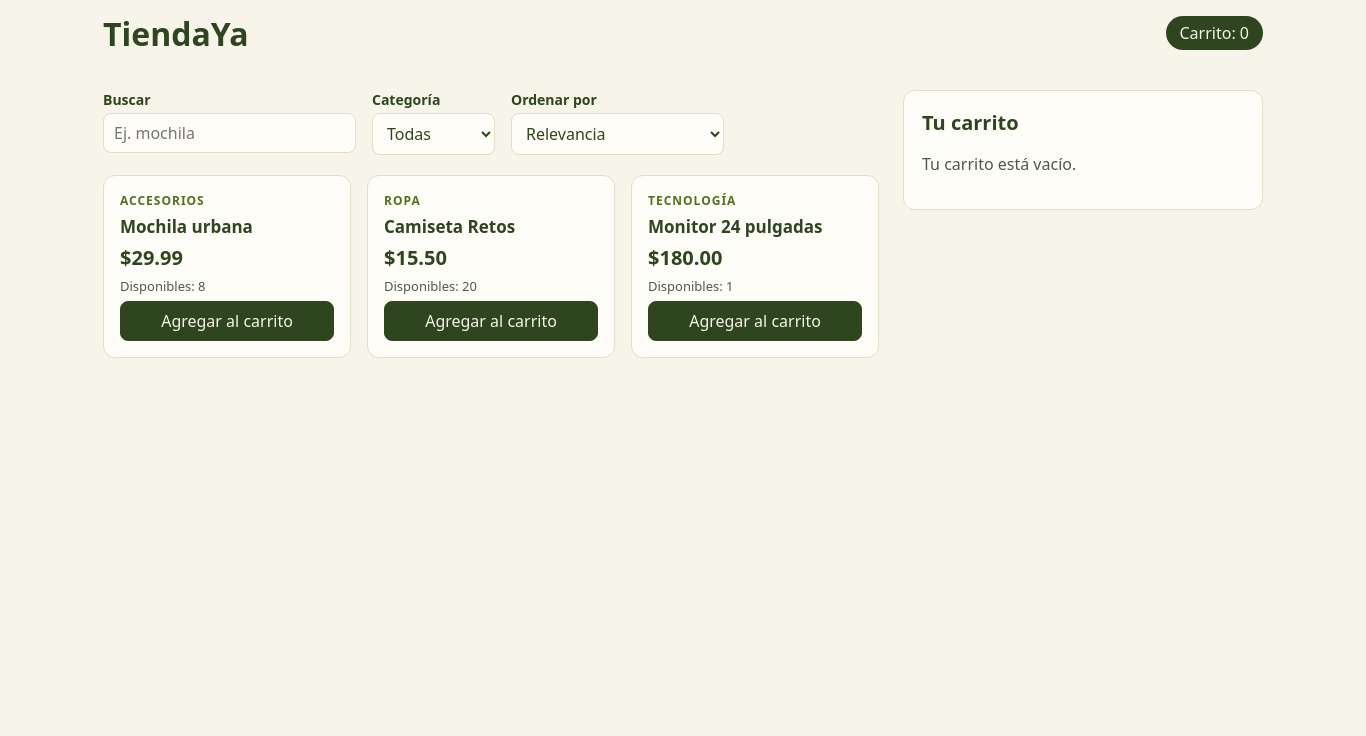
Test case: Tienda › compra completa: cobra, envía el correo y vacía el carrito
Click the button "Agregar al carrito" below "Disponibles: 20": (491, 321) [384,301,598,341]
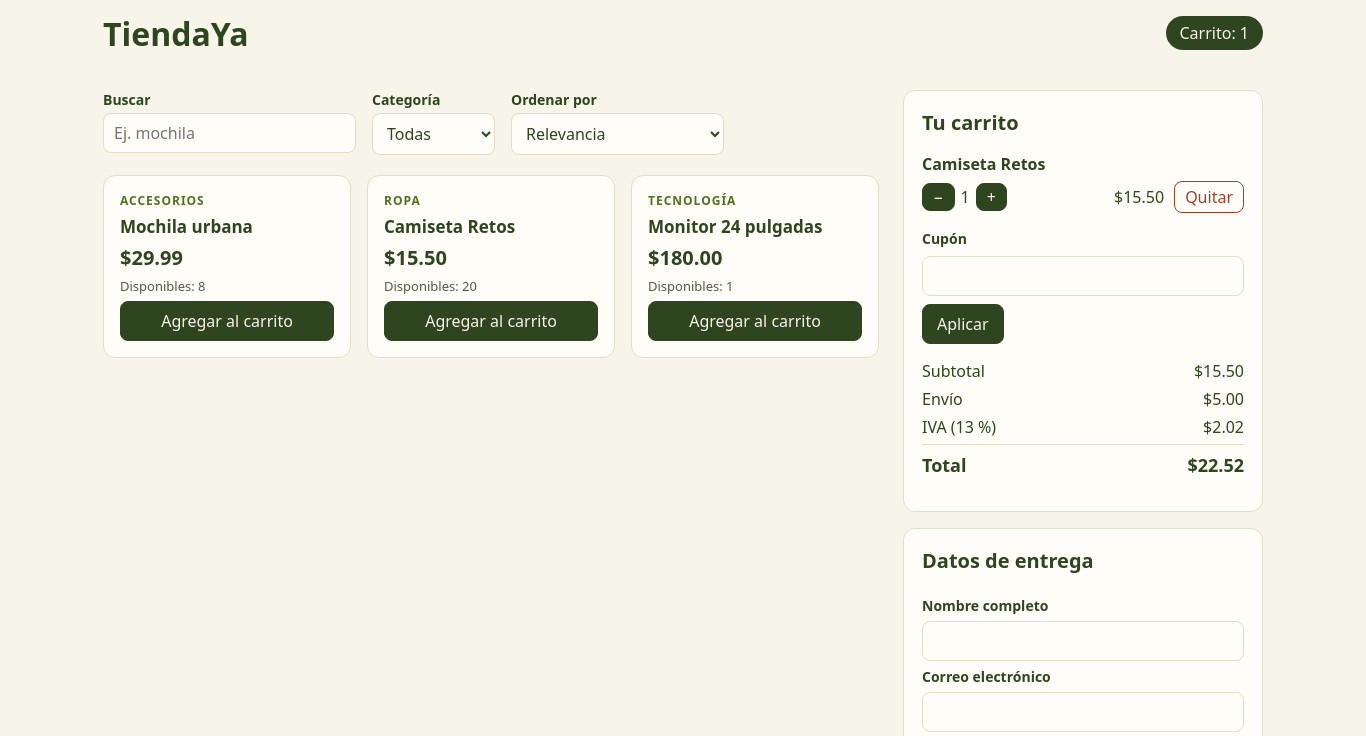
In the field labelled "Nombre completo": (1083, 641) [922,621,1244,661], type "Ana López"
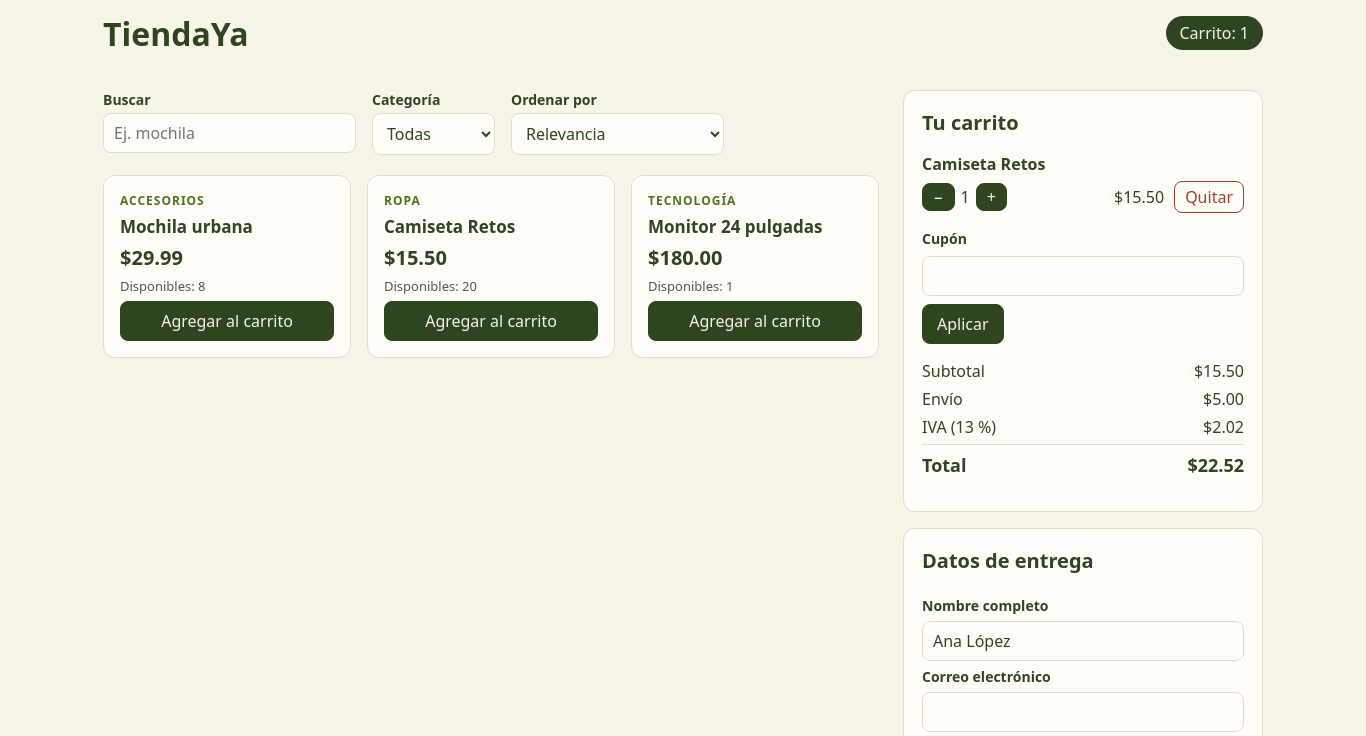
In the field labelled "Correo electrónico": (1083, 712) [922,692,1244,732], type "ana@correo.com"
(page scrolled)
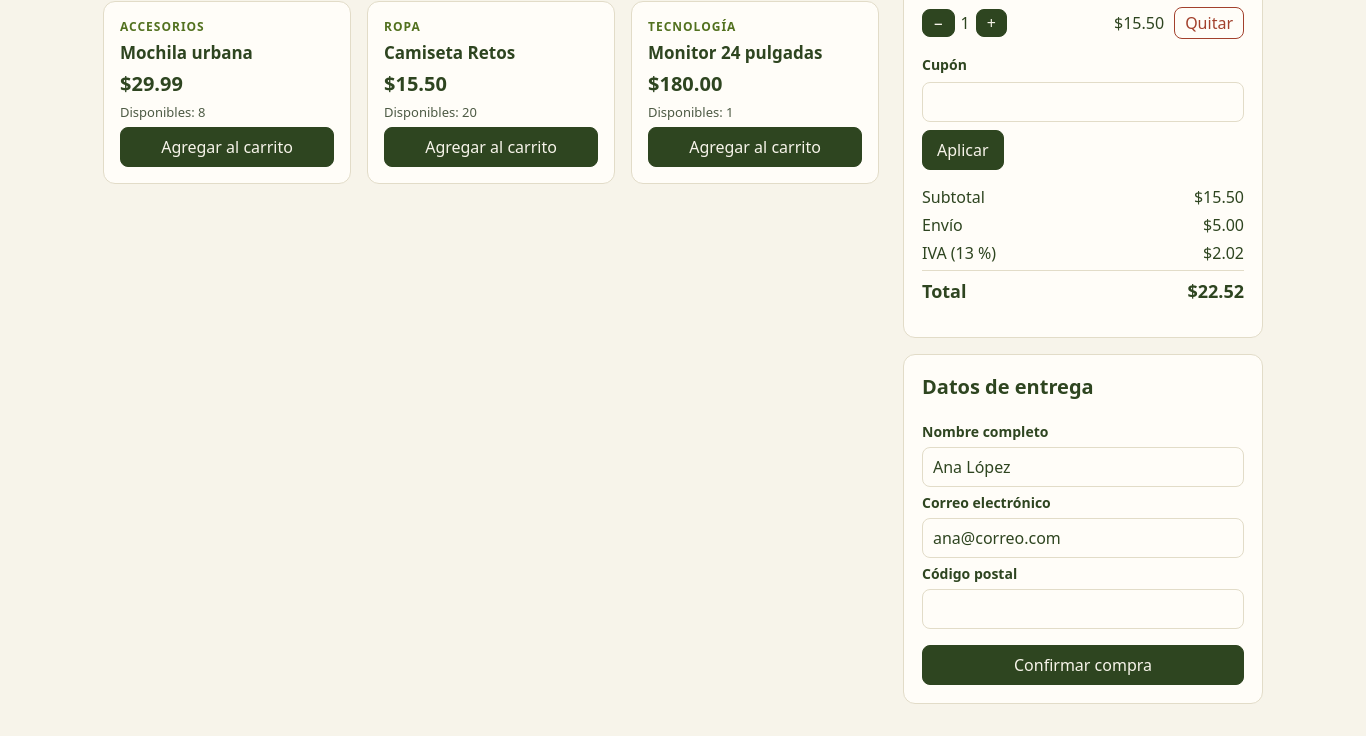
In the field labelled "Código postal": (1083, 609) [922,589,1244,629], type "1101"
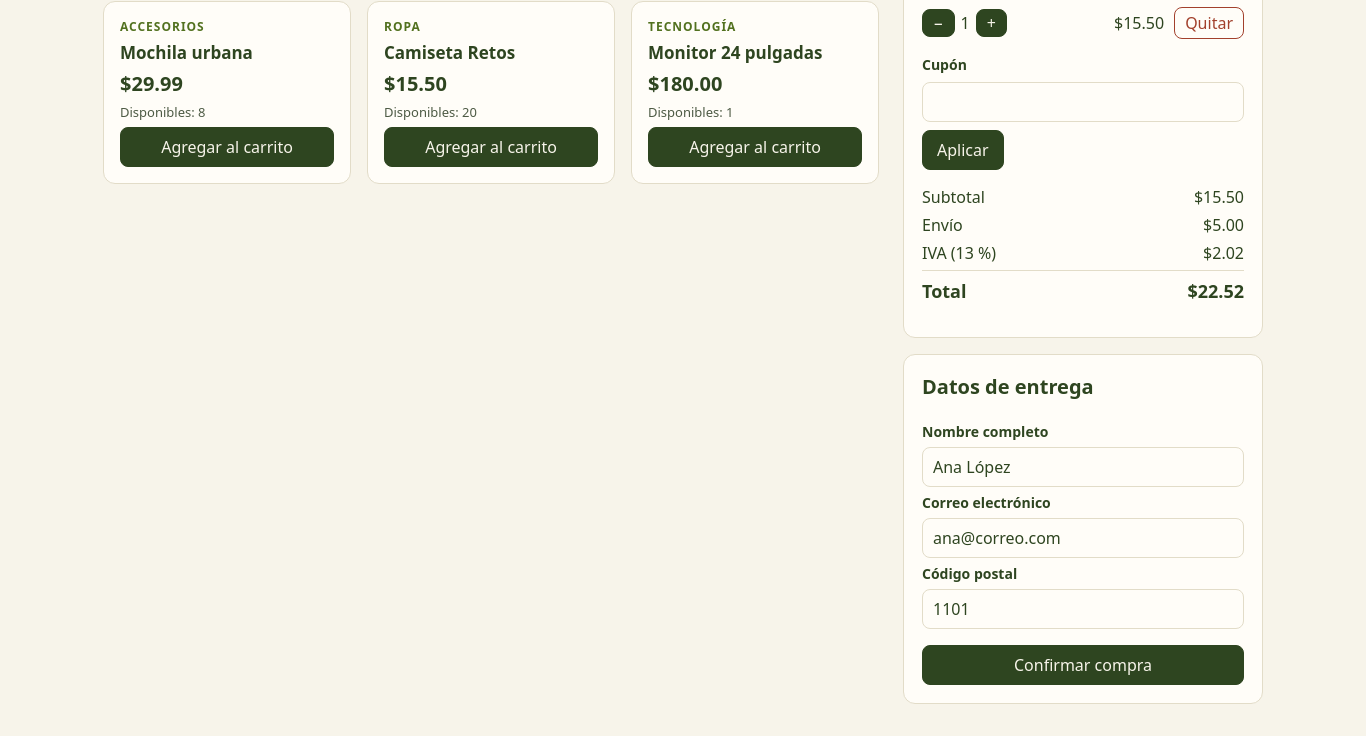
Click the button "Confirmar compra": (1083, 665) [922,645,1244,685]
(page scrolled)
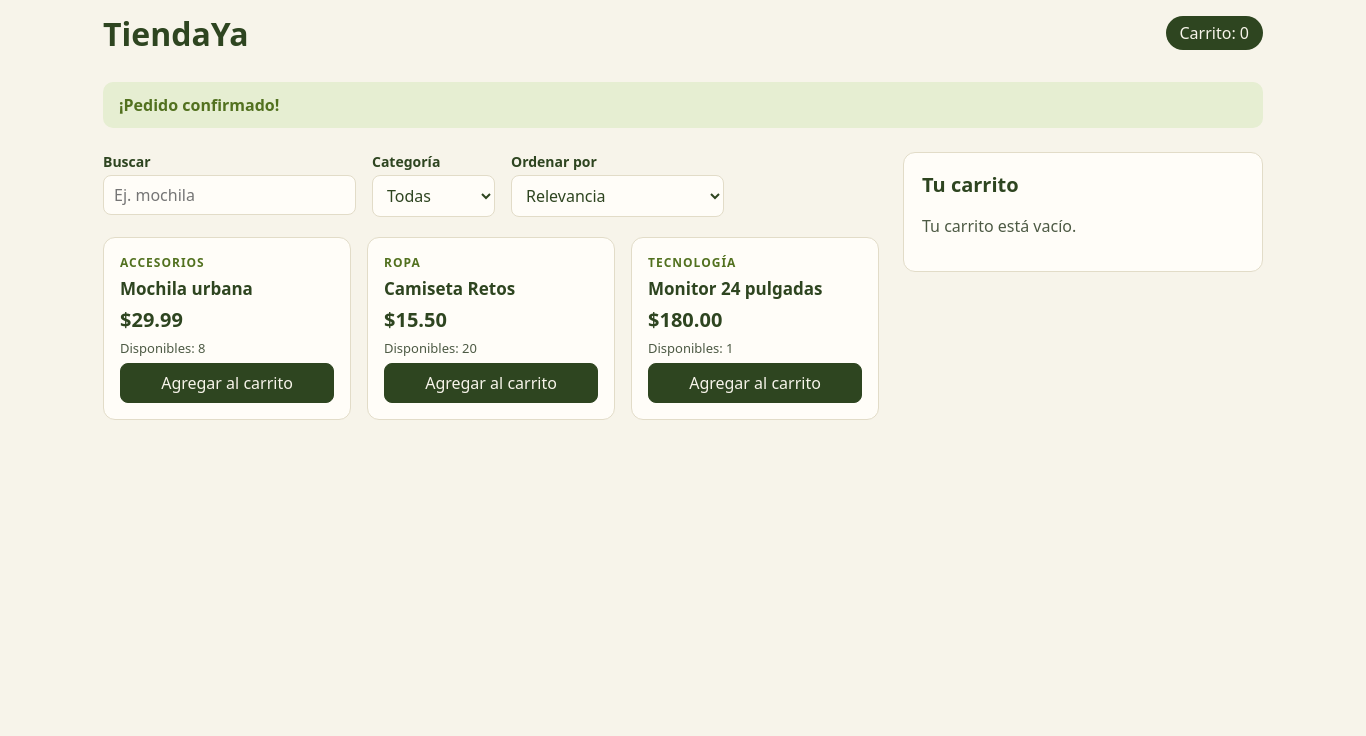
expect the message reads "¡Pedido confirmado!": met, box [119,94,279,116]
expect the text "Carrito: 0" is shown: met, box [1166,16,1263,50]
